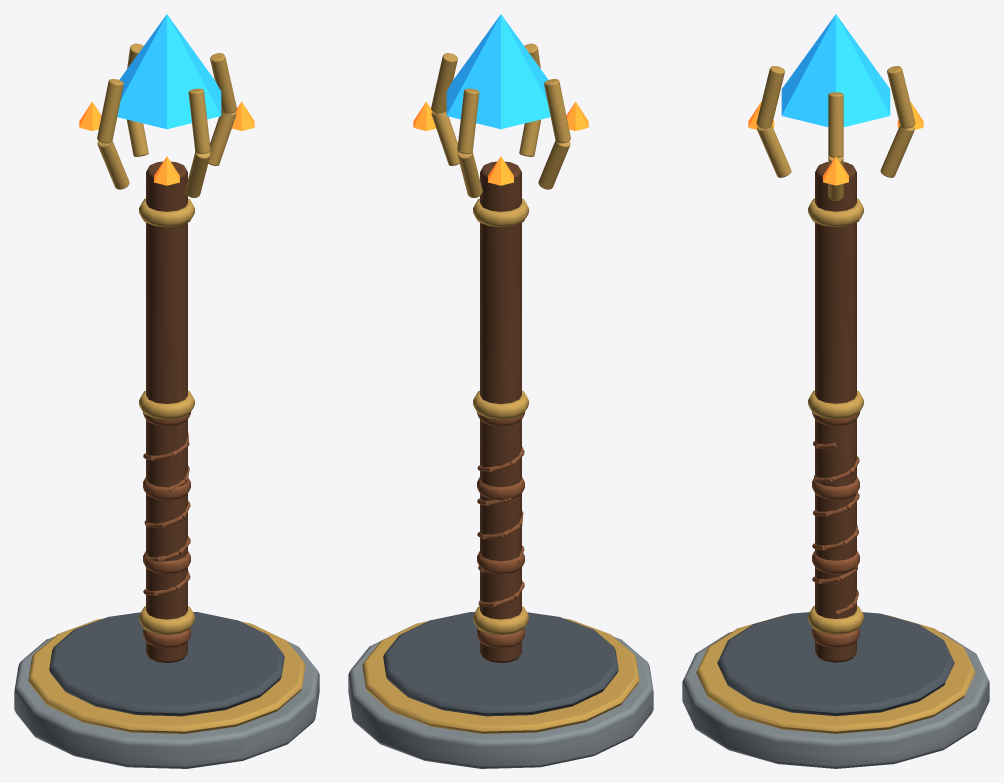
Rendered from ian-staff.glb.
The picture shows the model from 3 angles, left to right: view 1: azimuth 30°, elevation 25°; view 2: azimuth 150°, elevation 25°; view 3: azimuth 270°, elevation 25°; orthographic projection.
Visible parts, largest first — view 1: Display / raised inset, Grip / central shaft, Display / stone base, Display / bronze rim, Magic / sapphire focus, Staff / brass focus claw 01.003, Staff / brass focus claw 01.002, Binding / collar.004, Binding / collar.005, Binding / collar.006, Staff / brass focus claw 01, Staff / brass focus claw 00 (+6 smaller); view 2: Display / raised inset, Grip / central shaft, Display / stone base, Display / bronze rim, Magic / sapphire focus, Staff / brass focus claw 01.001, Staff / brass focus claw 01.002, Binding / collar.004, Binding / collar.005, Binding / collar.006, Staff / brass focus claw 01, Staff / brass focus claw 00 (+6 smaller); view 3: Display / raised inset, Grip / central shaft, Display / stone base, Display / bronze rim, Magic / sapphire focus, Staff / brass focus claw 01, Staff / brass focus claw 01.001, Staff / brass focus claw 01.003, Binding / collar.004, Binding / collar.005, Binding / collar.006, Staff / brass focus claw 00.001 (+4 smaller).
Part boxes in pixels (x1,y1,x2,y2): Display / raised inset: (49,612,284,716); Grip / central shaft: (146,161,187,662); Display / stone base: (14,637,319,768); Display / bronze rim: (28,618,305,733); Magic / sapphire focus: (117,14,221,129); Staff / brass focus claw 01.003: (188,88,210,153); Staff / brass focus claw 01.002: (97,79,123,143); Binding / collar.004: (139,606,194,634); Binding / collar.005: (139,390,194,419); Binding / collar.006: (139,198,194,227); Staff / brass focus claw 01: (210,53,236,113); Staff / brass focus claw 00: (208,110,236,165); Display / raised inset: (383,612,618,716); Grip / central shaft: (480,161,521,662); Display / stone base: (348,637,653,768); Display / bronze rim: (362,618,639,733); Magic / sapphire focus: (446,14,550,129); Staff / brass focus claw 01.001: (457,88,479,153); Staff / brass focus claw 01.002: (544,79,570,143); Binding / collar.004: (473,606,528,634); Binding / collar.005: (473,390,528,419); Binding / collar.006: (473,198,528,227); Staff / brass focus claw 01: (431,53,457,113); Staff / brass focus claw 00: (431,110,459,165); Display / raised inset: (717,612,954,716); Grip / central shaft: (815,162,856,662); Display / stone base: (682,632,989,768); Display / bronze rim: (696,615,975,733); Magic / sapphire focus: (781,14,890,126); Staff / brass focus claw 01: (828,92,843,157); Staff / brass focus claw 01.001: (887,66,915,128); Staff / brass focus claw 01.003: (756,66,784,128); Binding / collar.004: (808,605,863,634); Binding / collar.005: (808,390,863,419); Binding / collar.006: (808,198,863,226); Staff / brass focus claw 00.001: (880,126,914,177).
Size of the model in its own units: 1.32 by 3.28 by 1.32.
7 materials, 3 textured.
